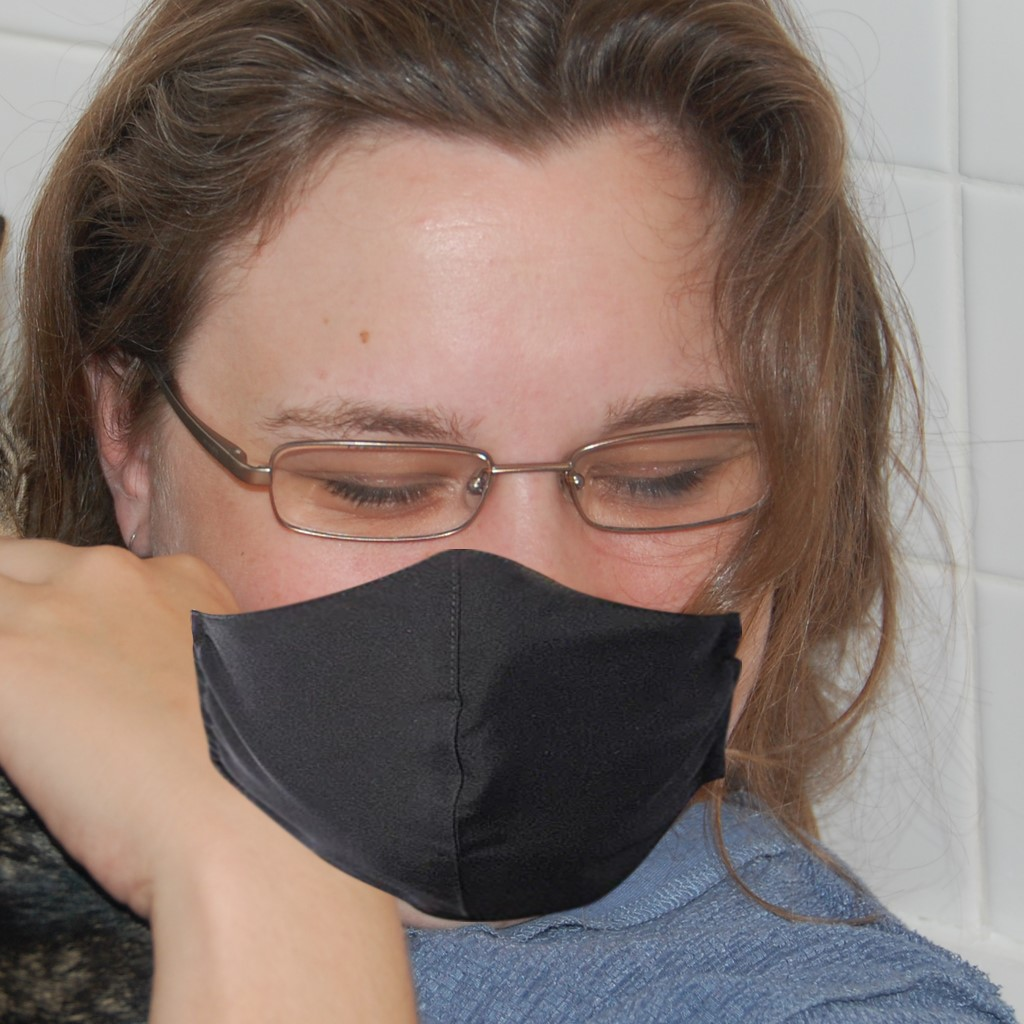con_mascara: (184, 95, 800, 934)
